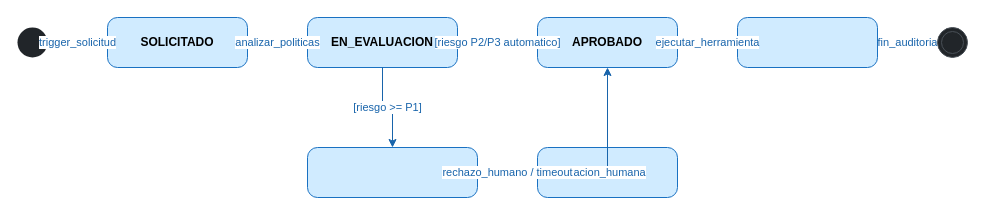
Image size: 985x215. Some labels were removed from this diagram. The box of each missing label's shape, as (x1, y1, x2, y2) in pixels:
EJECUTADO: (736, 16, 878, 68)
REQUIERE_APROBACION: (306, 146, 478, 198)
